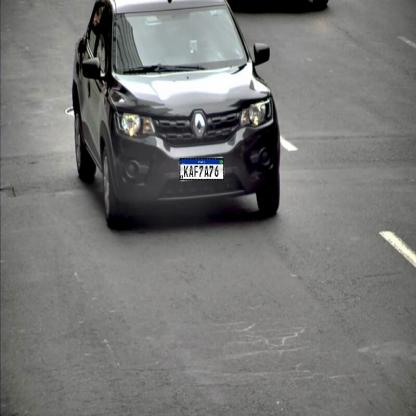PlacaM: (180, 158, 224, 180)
